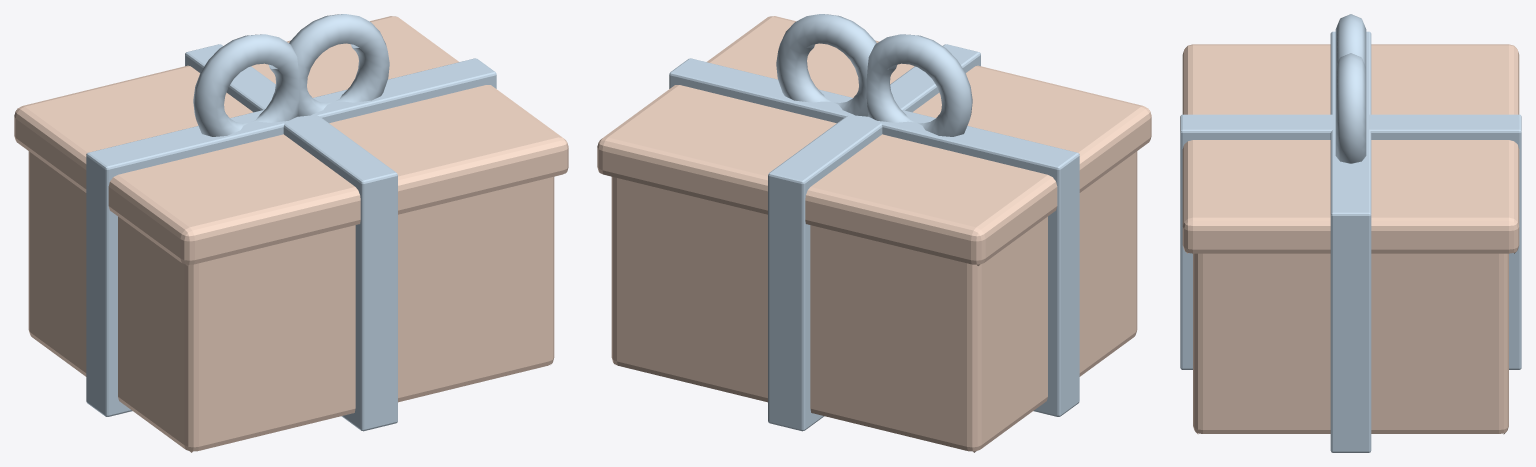
File: box_peach.glb
3 views of the same model, side by side, from view 1: azimuth 30°, elevation 25°; view 2: azimuth 150°, elevation 25°; view 3: azimuth 270°, elevation 25° (orthographic). The views are drawn at different scales.
Visible parts, largest first — view 1: box_peach_peach, box_peach_sky; view 2: box_peach_peach, box_peach_sky; view 3: box_peach_peach, box_peach_sky.
Part boxes in pixels (bbox=[...]): box_peach_peach: bbox=[14, 16, 568, 452]; box_peach_sky: bbox=[86, 14, 496, 431]; box_peach_peach: bbox=[597, 16, 1151, 452]; box_peach_sky: bbox=[669, 14, 1079, 431]; box_peach_peach: bbox=[1182, 44, 1519, 434]; box_peach_sky: bbox=[1180, 14, 1521, 452].
Bounding box in the file's own units: 0.85 × 0.6985 × 0.67.
